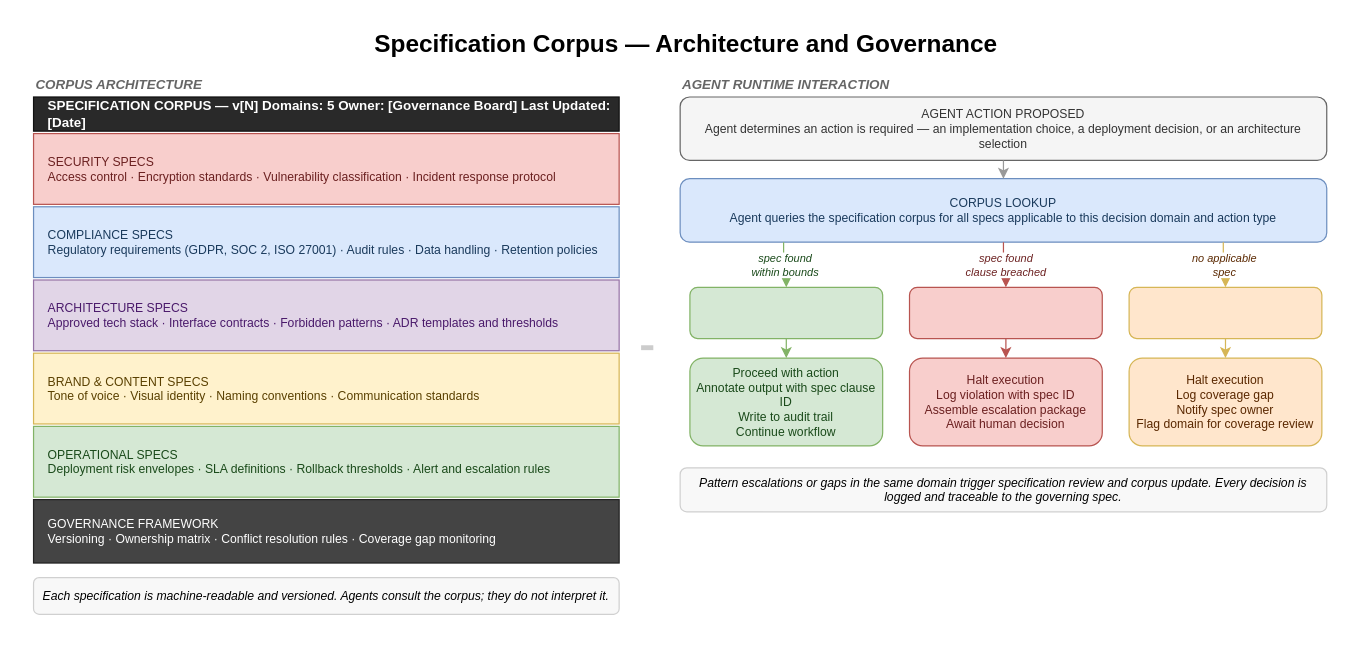
The diagram is 1371 pixels wide and 648 high, and some of its shapes have lost their labels. Here are the shapes that lost their labels. From the top down, the centre of each, then its label:
point 786,312: AUTHORISED
point 1005,312: VIOLATION
point 1225,312: COVERAGE GAP
